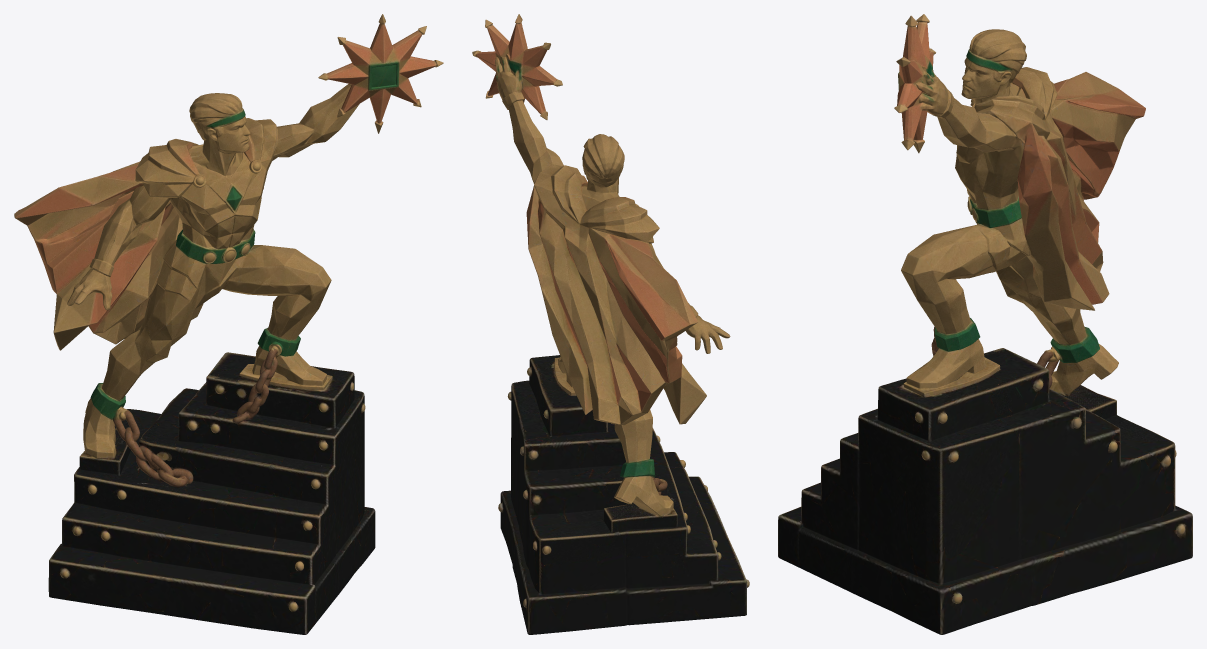
Rendered from astra.glb.
3 renders of one model, left to right at view 1: azimuth 30°, elevation 25°; view 2: azimuth 150°, elevation 25°; view 3: azimuth 270°, elevation 25°, orthographic. The views are drawn at different scales.
Bounding box in the file's own units: 1.26 × 1.9 × 1.16.
Materials: 1 (1 with a texture image).
